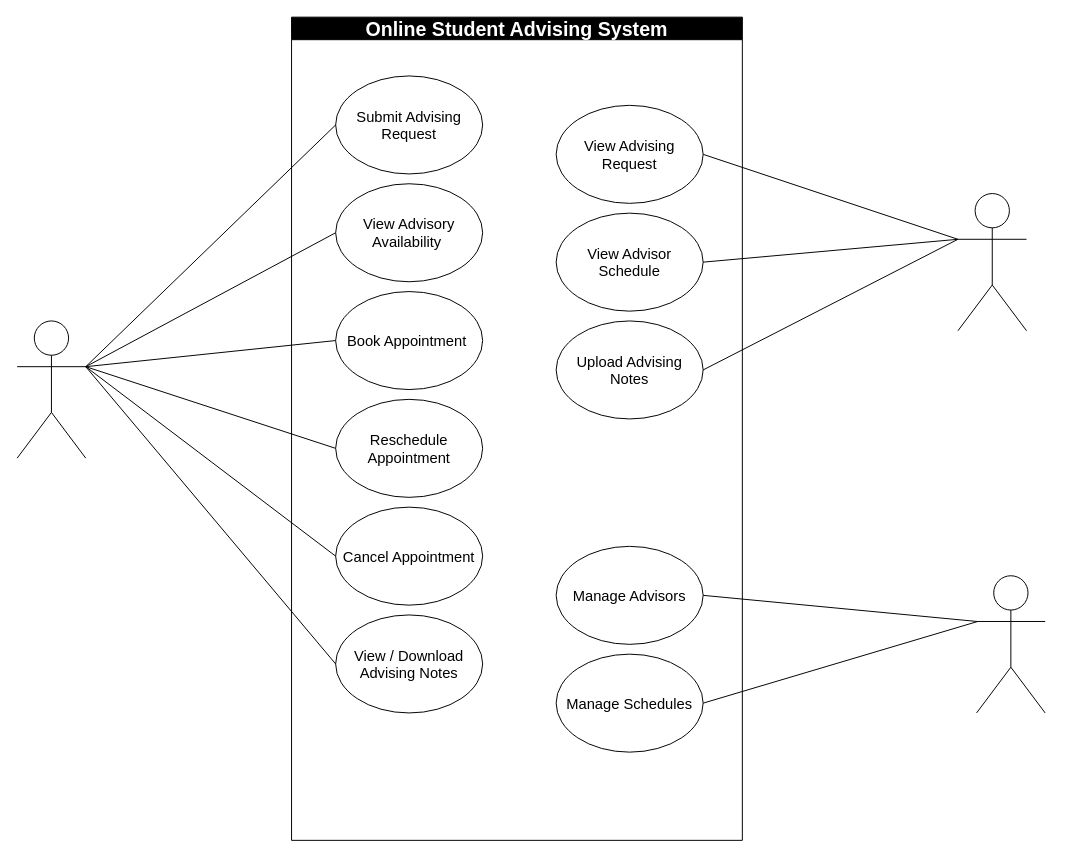
This 1088x858 diagram has some shape labels left out. The centre of each missing label's shape, as x and y in pixels:
"ACADEMIC ADVISOR" belongs at pixel 992 262.
"ADMINISTRATOR" belongs at pixel 1010 644.
"STUDENT" belongs at pixel 51 389.
